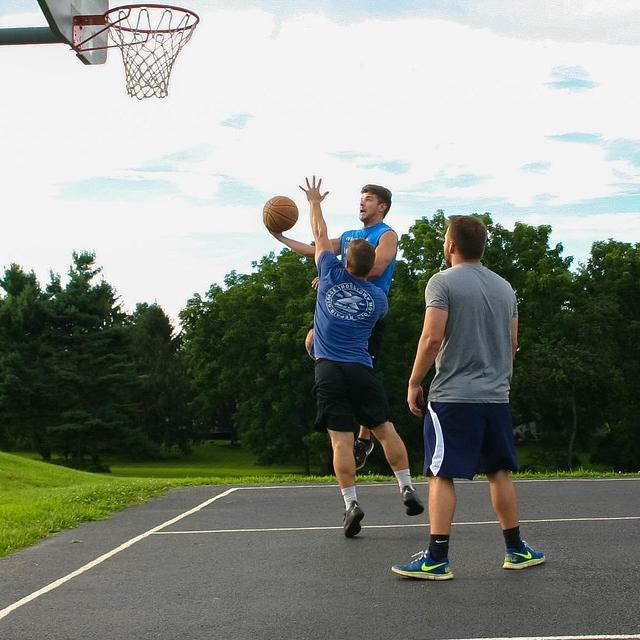basketball: (261, 197, 300, 234)
hoop: (101, 4, 198, 104)
